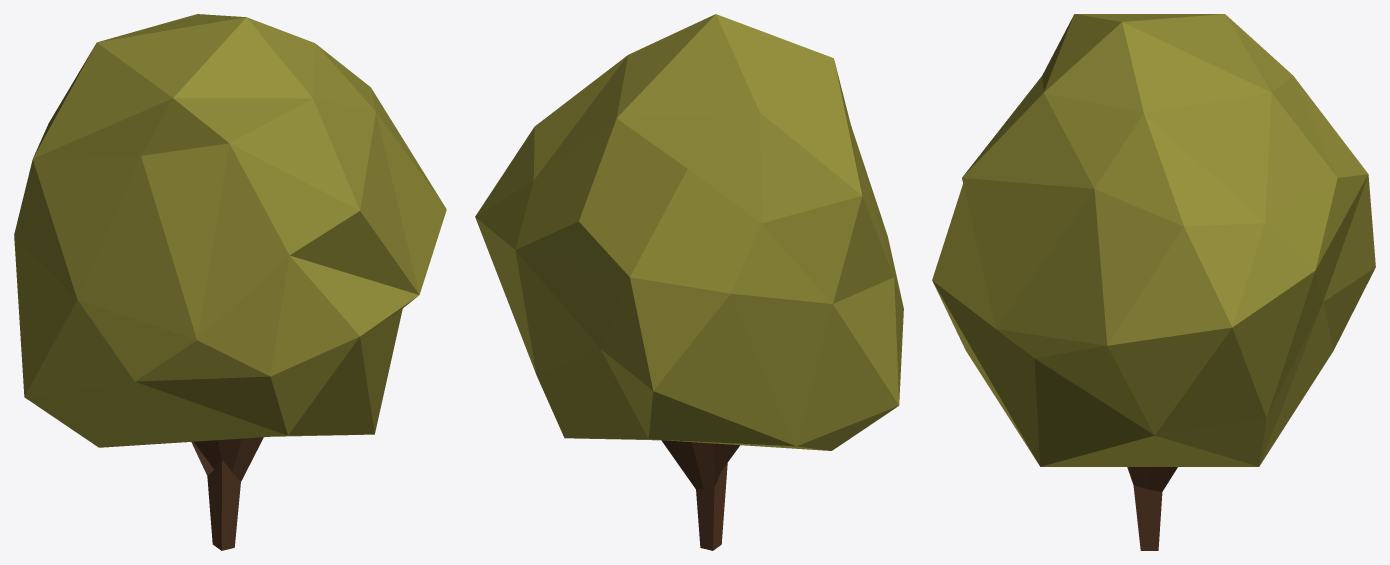
The model's file is Tree_21_Yellow.fbx.
3 views of the same model, side by side, from view 1: azimuth 30°, elevation 25°; view 2: azimuth 150°, elevation 25°; view 3: azimuth 270°, elevation 25° (orthographic). The views are drawn at different scales.
Parts seen in each view (by area): view 1: Tree_21_Yellow_Part_1, Tree_21_Yellow_Part_2; view 2: Tree_21_Yellow_Part_1, Tree_21_Yellow_Part_2; view 3: Tree_21_Yellow_Part_1, Tree_21_Yellow_Part_2.
Part boxes in pixels (bbox=[...]): Tree_21_Yellow_Part_1: bbox=[14, 14, 446, 447]; Tree_21_Yellow_Part_2: bbox=[191, 437, 263, 550]; Tree_21_Yellow_Part_1: bbox=[475, 14, 903, 450]; Tree_21_Yellow_Part_2: bbox=[661, 440, 739, 550]; Tree_21_Yellow_Part_1: bbox=[932, 14, 1375, 466]; Tree_21_Yellow_Part_2: bbox=[1127, 467, 1177, 550].
Size of the model in its own units: 616 by 793 by 601.
